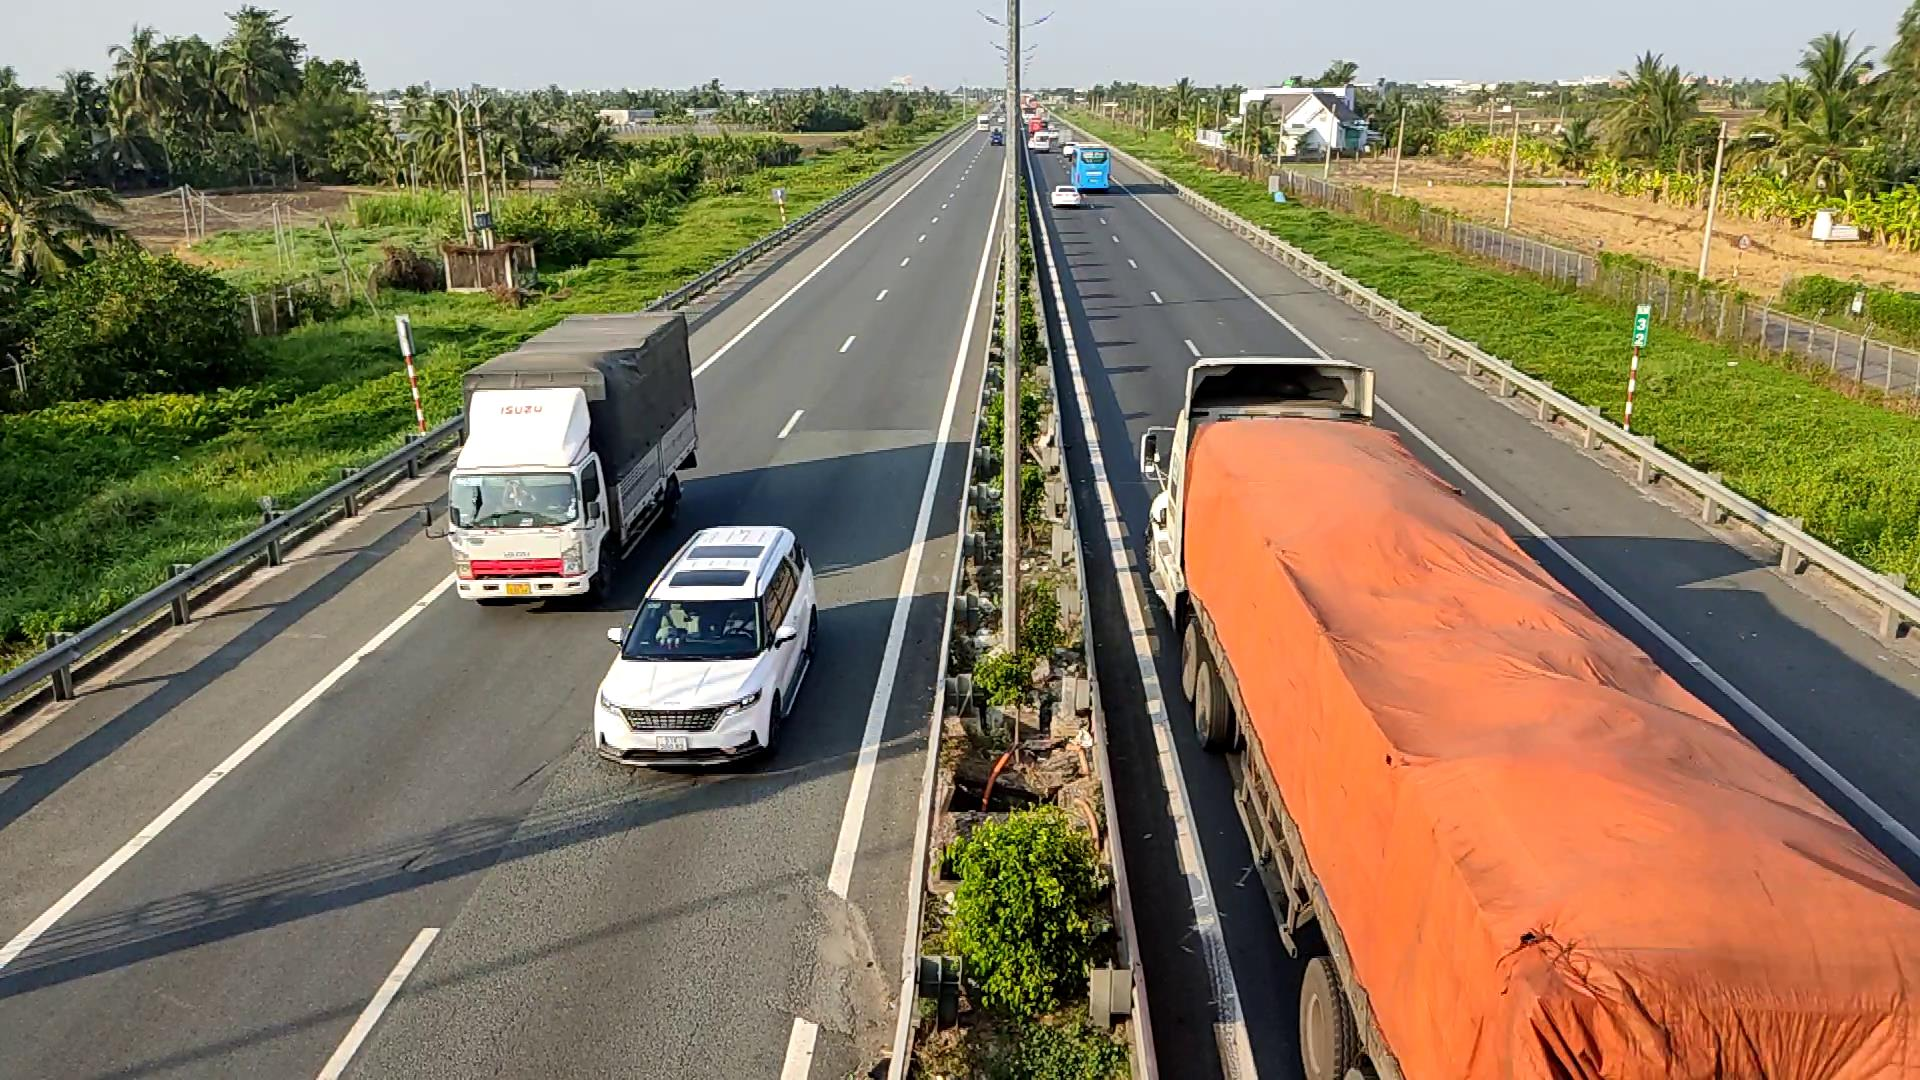car: (591, 522, 819, 769)
truck: (1137, 353, 1917, 1067), (444, 310, 702, 607)
